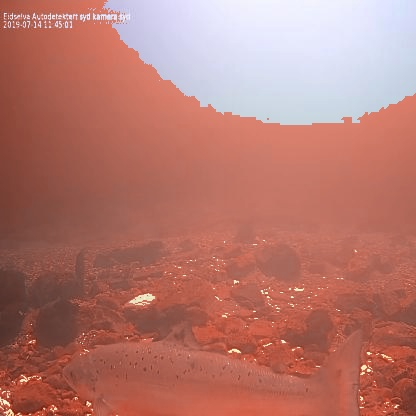salmon: (61, 318, 367, 416)
